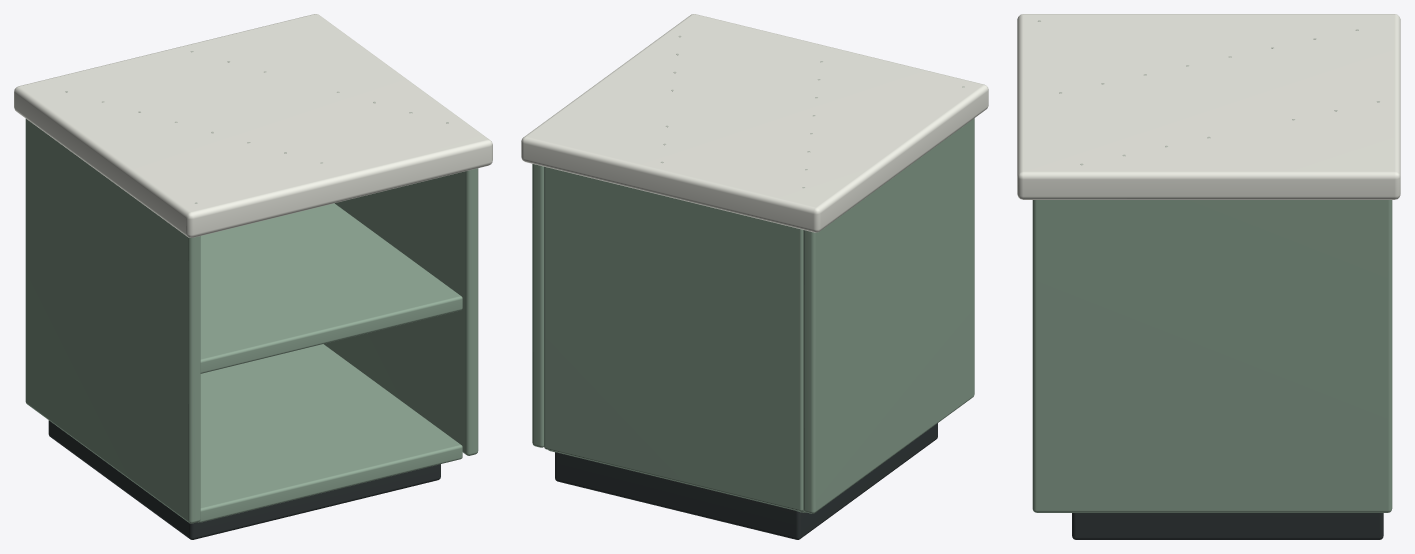
File: kitchenModernFloorShelfSage.glb
3 views of the same model, side by side, from view 1: azimuth 30°, elevation 25°; view 2: azimuth 150°, elevation 25°; view 3: azimuth 270°, elevation 25° (orthographic). The views are drawn at different scales.
Visible parts, largest first — view 1: Thick stone worktop, Open shelf side, Shelf, Shelf.001, Open shelf side.001, Recessed kitchen plinth; view 2: Open shelf back, Thick stone worktop, Open shelf side, Recessed kitchen plinth, Open shelf side.001; view 3: Open shelf side.001, Thick stone worktop, Recessed kitchen plinth.
Part boxes in pixels (<box>): Thick stone worktop: <box>14,14,492,237</box>; Open shelf side: <box>25,119,200,523</box>; Shelf: <box>198,344,462,522</box>; Shelf.001: <box>200,203,462,373</box>; Open shelf side.001: <box>324,168,478,455</box>; Recessed kitchen plinth: <box>48,420,440,539</box>; Open shelf back: <box>544,166,803,511</box>; Thick stone worktop: <box>521,14,988,232</box>; Open shelf side: <box>803,118,974,513</box>; Recessed kitchen plinth: <box>555,423,937,539</box>; Open shelf side.001: <box>532,164,543,447</box>; Open shelf side.001: <box>1032,200,1392,512</box>; Thick stone worktop: <box>1017,14,1400,199</box>; Recessed kitchen plinth: <box>1072,513,1383,539</box>.
Size of the model in its own units: 1.12 by 1.23 by 1.12.
